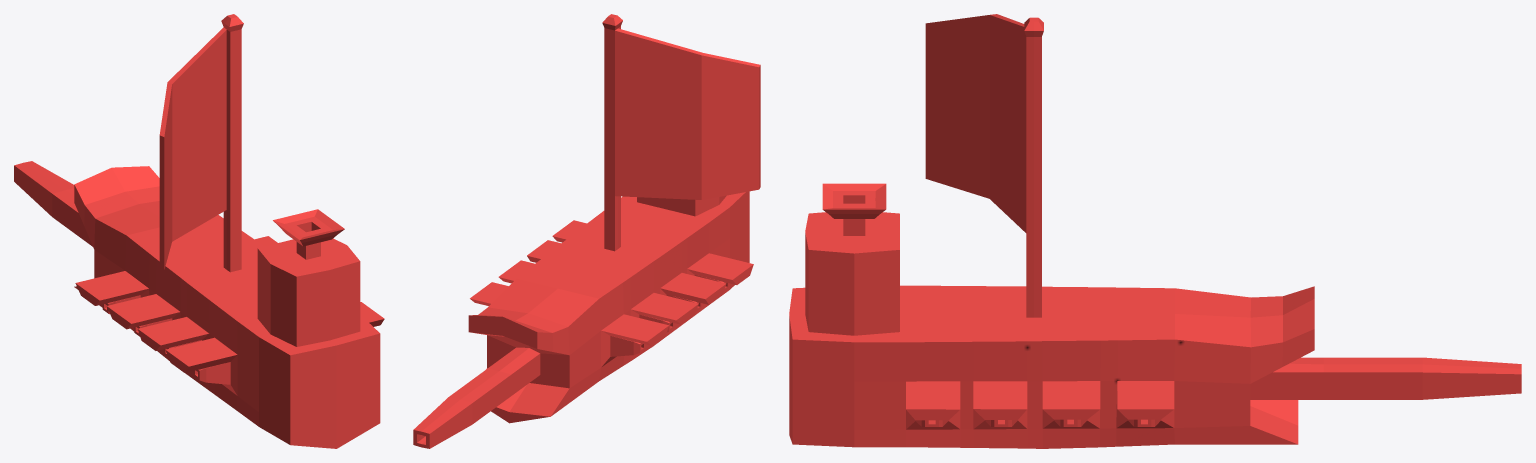
The model's file is portfolioShip.glb.
The picture shows the model from 3 angles, left to right: view 1: azimuth 30°, elevation 25°; view 2: azimuth 150°, elevation 25°; view 3: azimuth 270°, elevation 25°; orthographic projection. The views are drawn at different scales.
Parts seen in each view (by area): view 1: Base; view 2: Base; view 3: Base.
Part boxes in pixels (left/top/right/bottom): Base: left=14, top=14, right=384, bottom=448; Base: left=413, top=14, right=760, bottom=448; Base: left=789, top=14, right=1521, bottom=448.
Bounding box in the file's own units: 1.12 × 1.83 × 2.85.
1 material, 1 textured.
